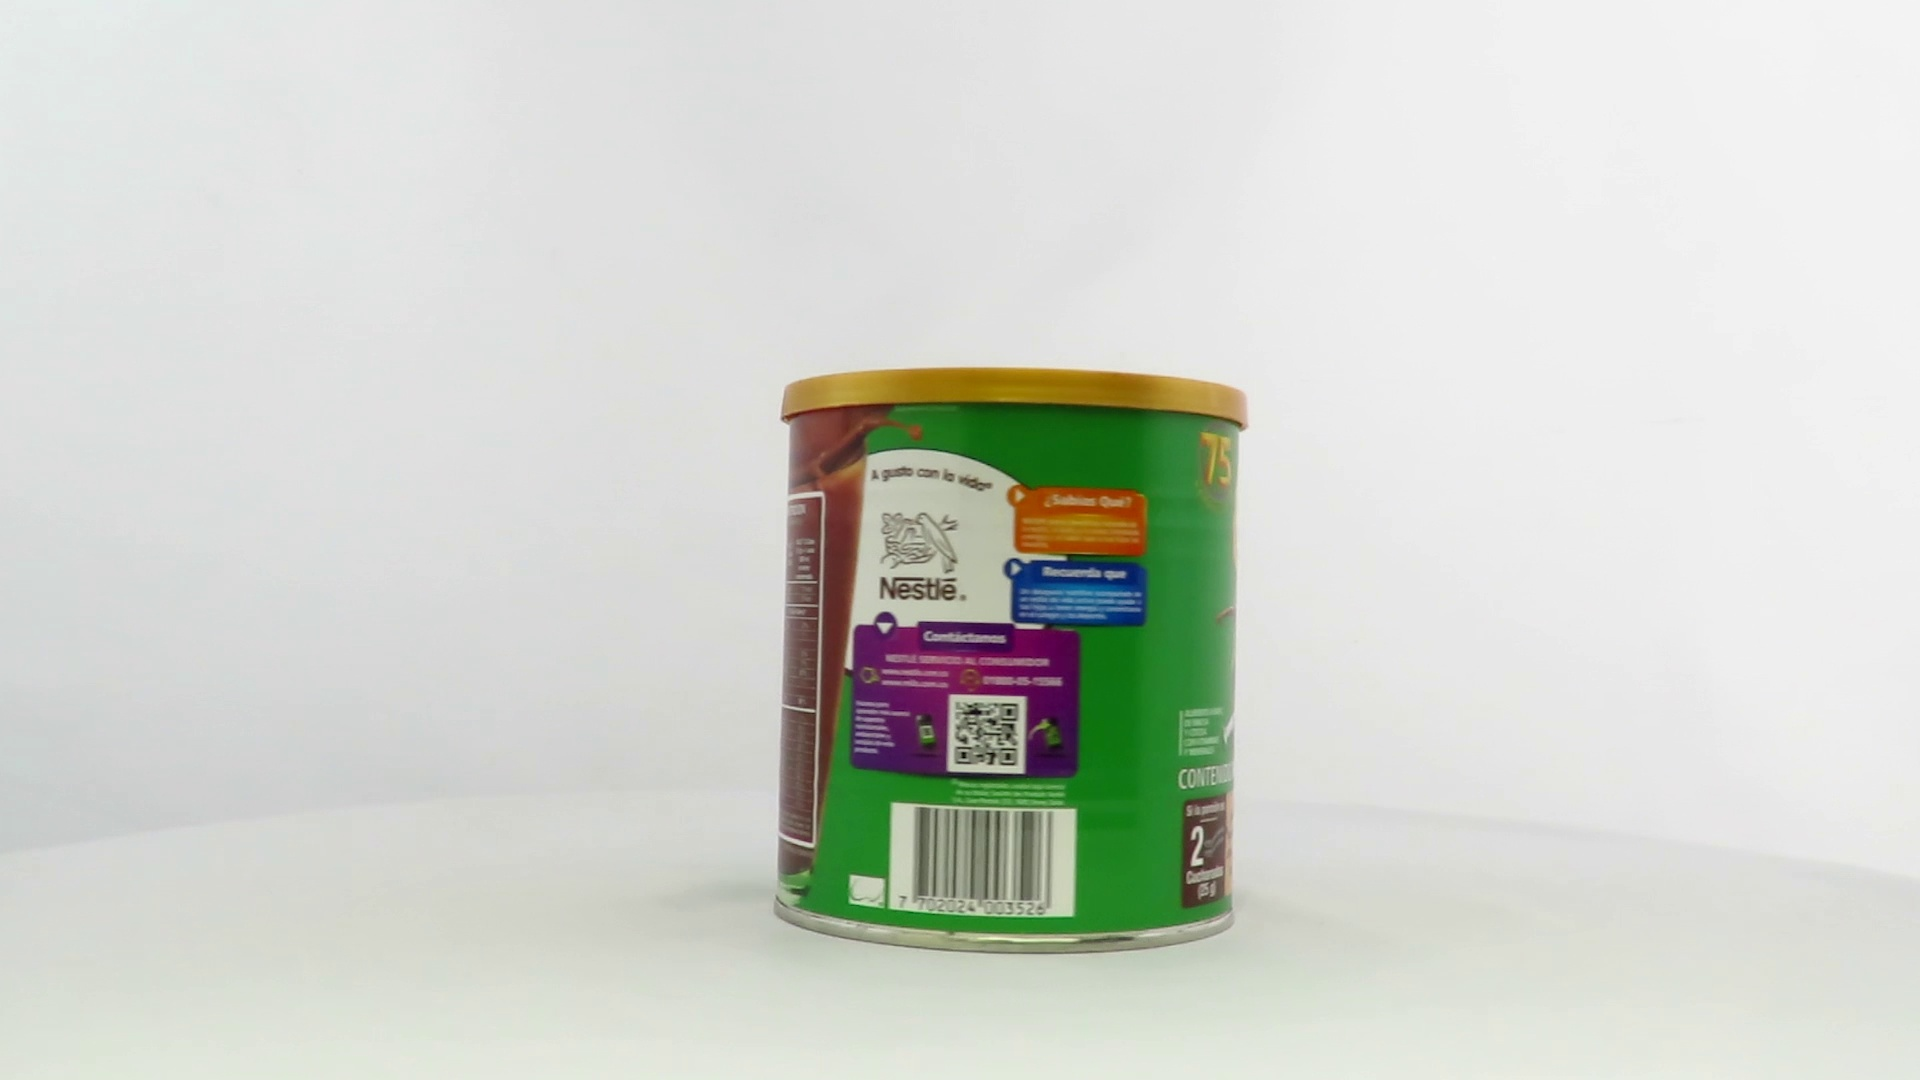COL0170203LAT40000: (814, 444, 1149, 924)
